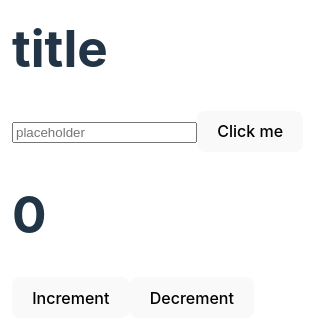
Counter › decrement
Expected: the heading with test id "value" reads "0", x1=12 y1=183 x2=46 y2=245
What coordinates should you click on to do the following:
click the button with test id "decrement"
I would click on:
 (192, 298)
Its box is x1=130 y1=277 x2=254 y2=318.
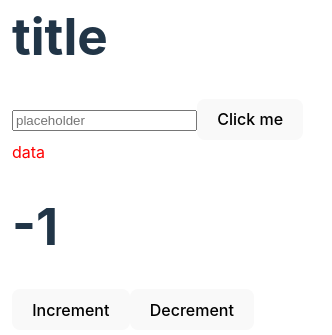
Expected: the heading with test id "value" reads "-1", x1=12 y1=195 x2=58 y2=257
